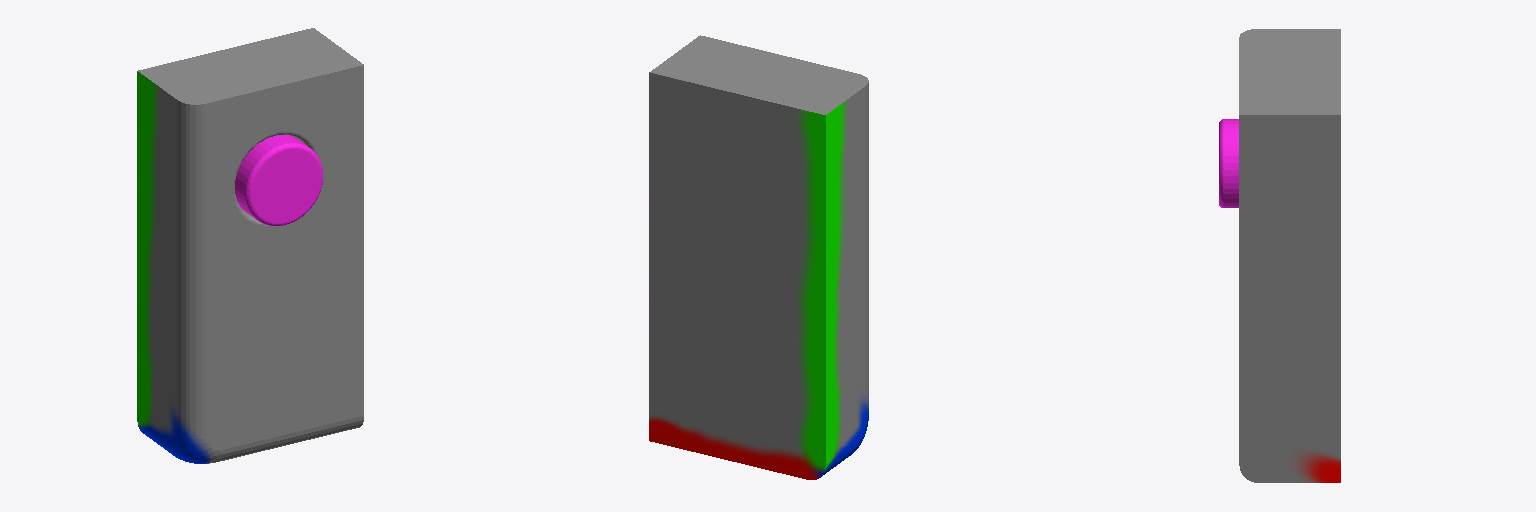
The picture shows the model from 3 angles: view 1: azimuth 30°, elevation 25°; view 2: azimuth 150°, elevation 25°; view 3: azimuth 270°, elevation 25°; orthographic projection.
Visible parts, largest first — view 1: testmodel1; view 2: testmodel1; view 3: testmodel1.
Part boxes in pixels (x1,y1,x2,y2): testmodel1: (137,28,363,463); testmodel1: (649,35,868,479); testmodel1: (1219,29,1340,482).
Bounding box in the file's own units: 0.02 × 0.04 × 0.012.
1 materials, 1 textured.